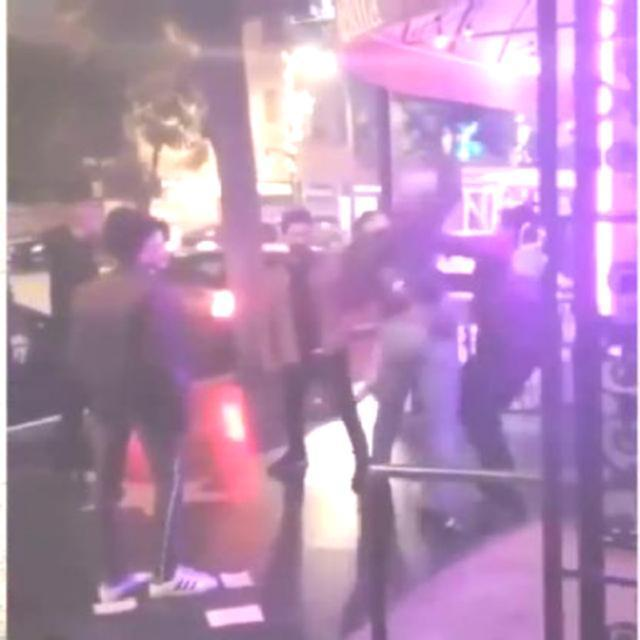fight: (356, 165, 564, 526)
